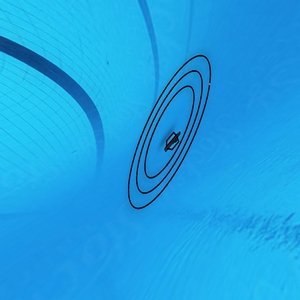submarine: (163, 131, 184, 150)
